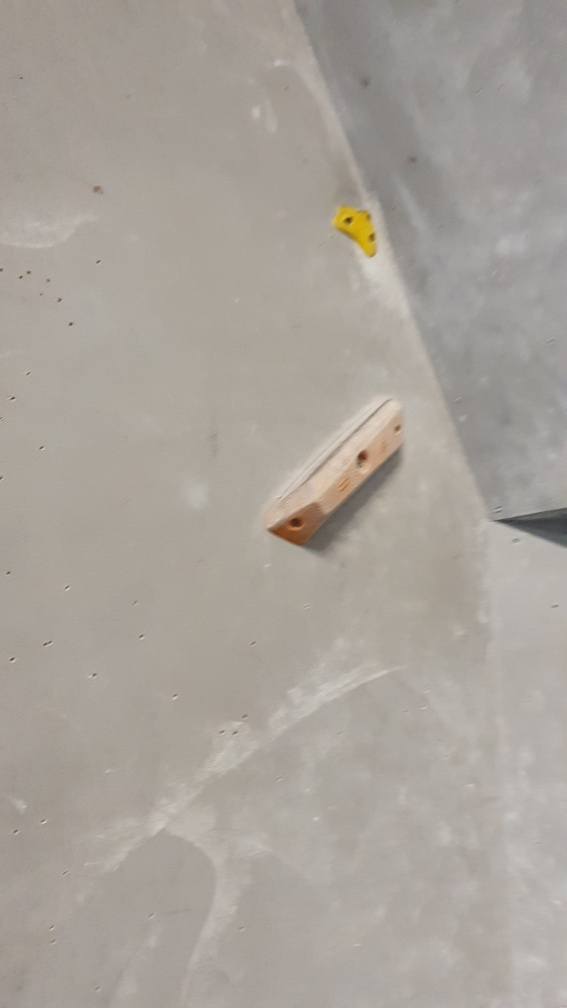Pinch: (261, 396, 408, 549)
